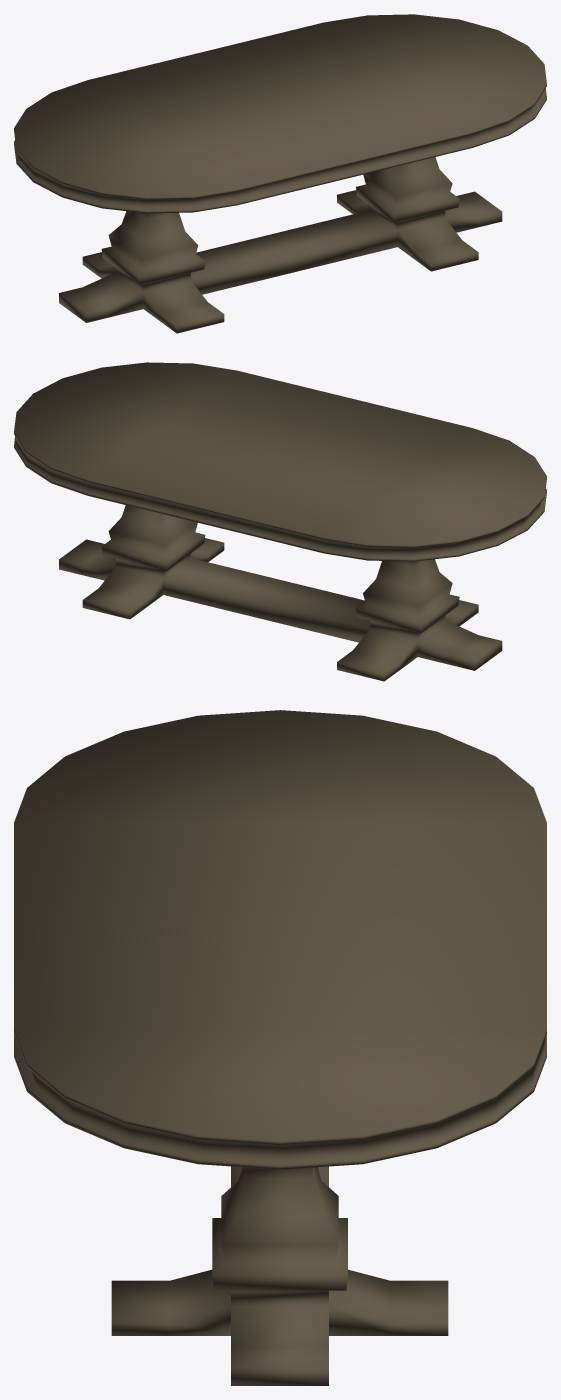
The model's file is Table_RoundLarge.glb.
3 views of the same model, one above another, from view 1: azimuth 30°, elevation 25°; view 2: azimuth 150°, elevation 25°; view 3: azimuth 270°, elevation 25° (orthographic). The views are drawn at different scales.
Parts seen in each view (by area): view 1: Table_RoundLarge; view 2: Table_RoundLarge; view 3: Table_RoundLarge.
Part boxes in pixels (<box>): Table_RoundLarge: <box>14,14,546,333</box>; Table_RoundLarge: <box>14,362,546,681</box>; Table_RoundLarge: <box>14,710,546,1385</box>.
Bounding box in the file's own units: 3.71 × 1.12 × 1.94.
